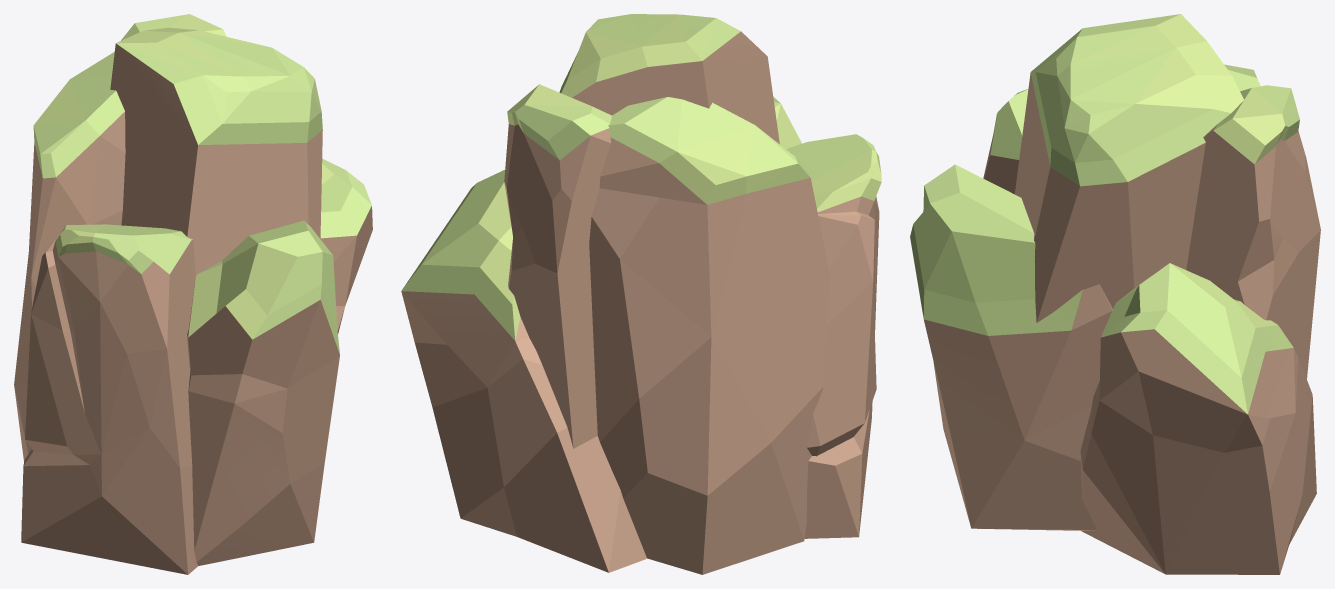
The model's file is rock_pile_forest_moss_05.glb.
3 views of the same model, side by side, from view 1: azimuth 30°, elevation 25°; view 2: azimuth 150°, elevation 25°; view 3: azimuth 270°, elevation 25° (orthographic). The views are drawn at different scales.
Parts seen in each view (by area): view 1: PP_Rock_Pile_Forest_Moss_05.002; view 2: PP_Rock_Pile_Forest_Moss_05.002; view 3: PP_Rock_Pile_Forest_Moss_05.002.
Boxes of the visible parts, bbox=[...] form: PP_Rock_Pile_Forest_Moss_05.002: bbox=[14, 14, 372, 574]; PP_Rock_Pile_Forest_Moss_05.002: bbox=[401, 14, 881, 574]; PP_Rock_Pile_Forest_Moss_05.002: bbox=[910, 14, 1320, 574].
Bounding box in the file's own units: 1.62 × 1.84 × 1.46.
